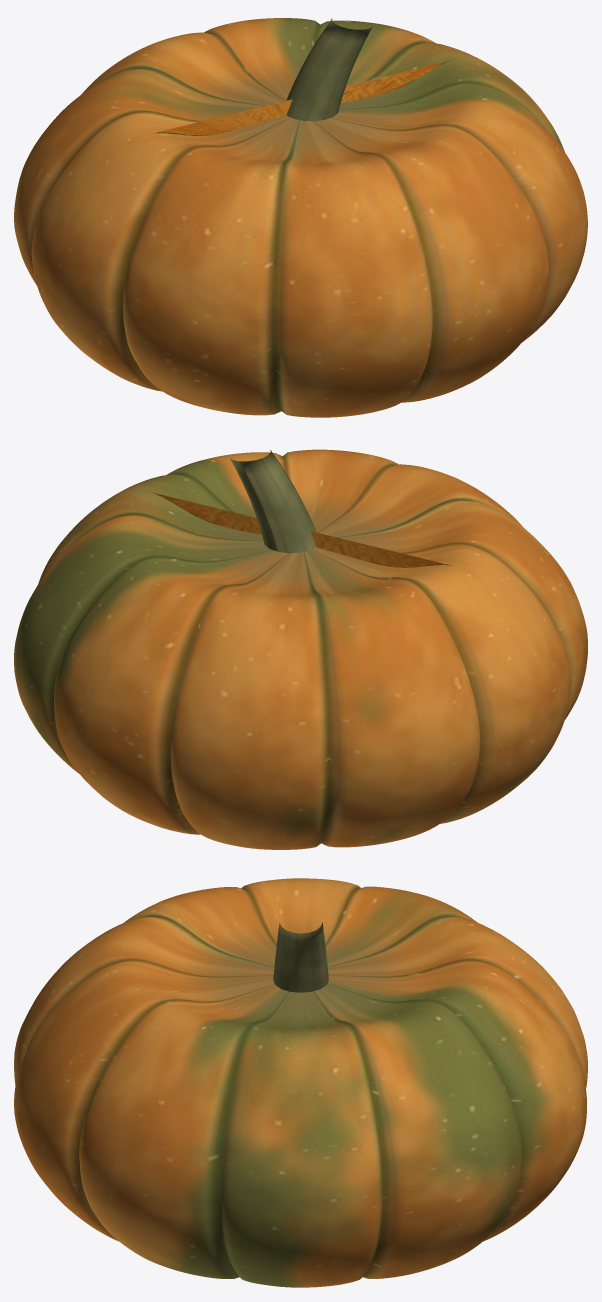
File: citrouille.glb
3 views of the same model, one above another, from view 1: azimuth 30°, elevation 25°; view 2: azimuth 150°, elevation 25°; view 3: azimuth 270°, elevation 25° (orthographic).
Parts seen in each view (by area): view 1: entier_peau, moitie_A_peau, moitie_B_peau, entier_extra0, moitie_A_chair, moitie_B_chair; view 2: entier_peau, moitie_B_peau, moitie_A_peau, entier_extra0, moitie_A_chair, moitie_B_chair; view 3: entier_peau, moitie_B_peau, moitie_A_peau, entier_extra0.
Boxes of the visible parts, x1,y1,x2,y2 form: entier_peau: [14, 18, 587, 417]; moitie_A_peau: [52, 58, 587, 417]; moitie_B_peau: [14, 18, 490, 352]; entier_extra0: [286, 18, 372, 121]; moitie_A_chair: [152, 60, 452, 135]; moitie_B_chair: [151, 65, 440, 135]; entier_peau: [14, 449, 587, 849]; moitie_B_peau: [14, 491, 547, 849]; moitie_A_peau: [106, 450, 587, 787]; entier_extra0: [230, 450, 316, 553]; moitie_A_chair: [150, 492, 452, 567]; moitie_B_chair: [156, 493, 442, 567]; entier_peau: [14, 878, 587, 1287]; moitie_B_peau: [301, 878, 587, 1287]; moitie_A_peau: [14, 878, 300, 1287]; entier_extra0: [273, 922, 328, 992].
Size of the model in its own units: 0.3002 by 0.1756 by 0.2943.
Materials: 3 (3 with a texture image).
